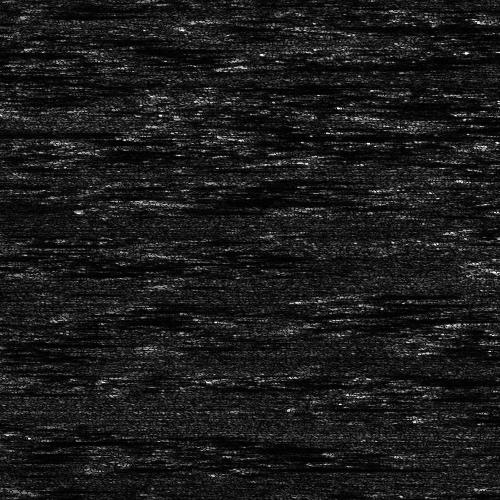rock: (0, 263, 98, 280), (303, 166, 376, 187), (260, 19, 353, 32), (93, 195, 218, 204), (406, 318, 500, 327), (123, 340, 176, 349), (59, 44, 122, 51), (340, 316, 403, 321), (406, 411, 447, 418), (238, 463, 279, 470), (0, 238, 39, 245), (421, 89, 474, 94), (242, 62, 295, 67), (0, 11, 40, 16), (0, 337, 24, 344), (373, 498, 426, 500)
shadow: (31, 263, 186, 280), (307, 19, 500, 32), (340, 166, 414, 187), (156, 195, 325, 204), (259, 463, 436, 470), (150, 340, 278, 349), (0, 337, 142, 344), (91, 44, 223, 51), (269, 62, 449, 67), (0, 238, 85, 245), (0, 129, 79, 136), (372, 316, 482, 321), (427, 411, 500, 418), (20, 11, 115, 16), (459, 318, 500, 327), (0, 72, 49, 79), (0, 388, 55, 393), (448, 89, 500, 94), (0, 52, 30, 59), (400, 498, 500, 500)
